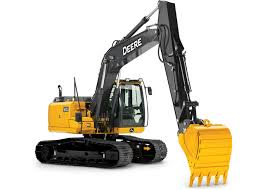excavator: (34, 4, 230, 185)
